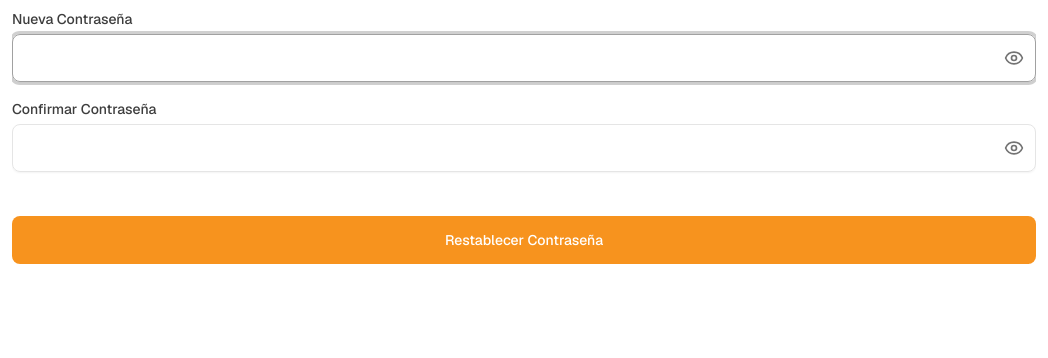
Test: PasswordConfirmForm › Error Handling › shows specific error when new password matches old password
The width and height of the screenshot is (1048, 358).
Type "samepassword" into the password field labelled "Nueva Contraseña".
click(524, 58); type("samepassword")  # box 12,34 -> 1036,82
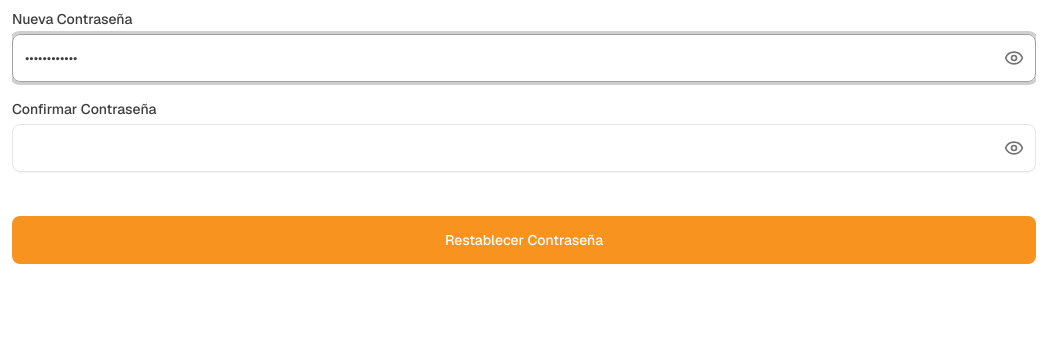
Type "samepassword" into the password field labelled "Confirmar Contraseña".
click(524, 148); type("samepassword")  # box 12,124 -> 1036,172
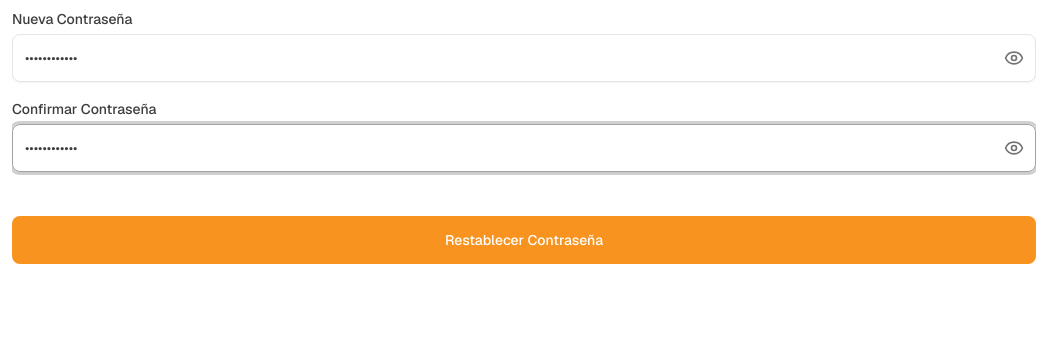
Click the button "Restablecer Contraseña".
click(524, 240)  # box 12,216 -> 1036,264
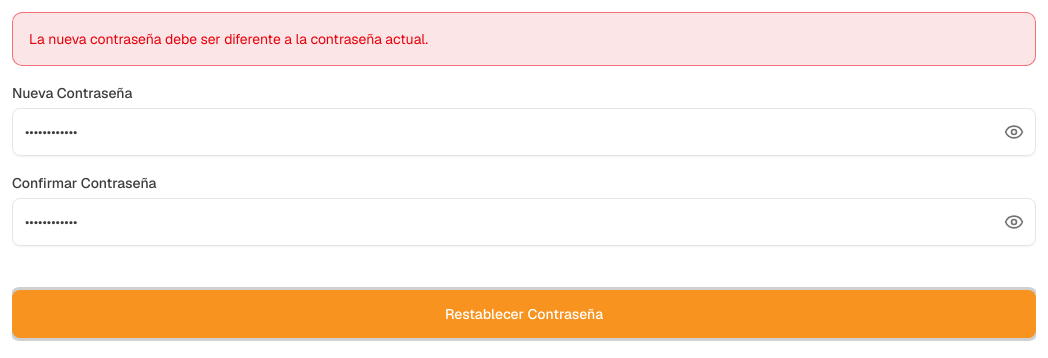
Now the text "La nueva contraseña debe ser diferente a la contraseña actual." is shown, box 29,30 -> 428,48
